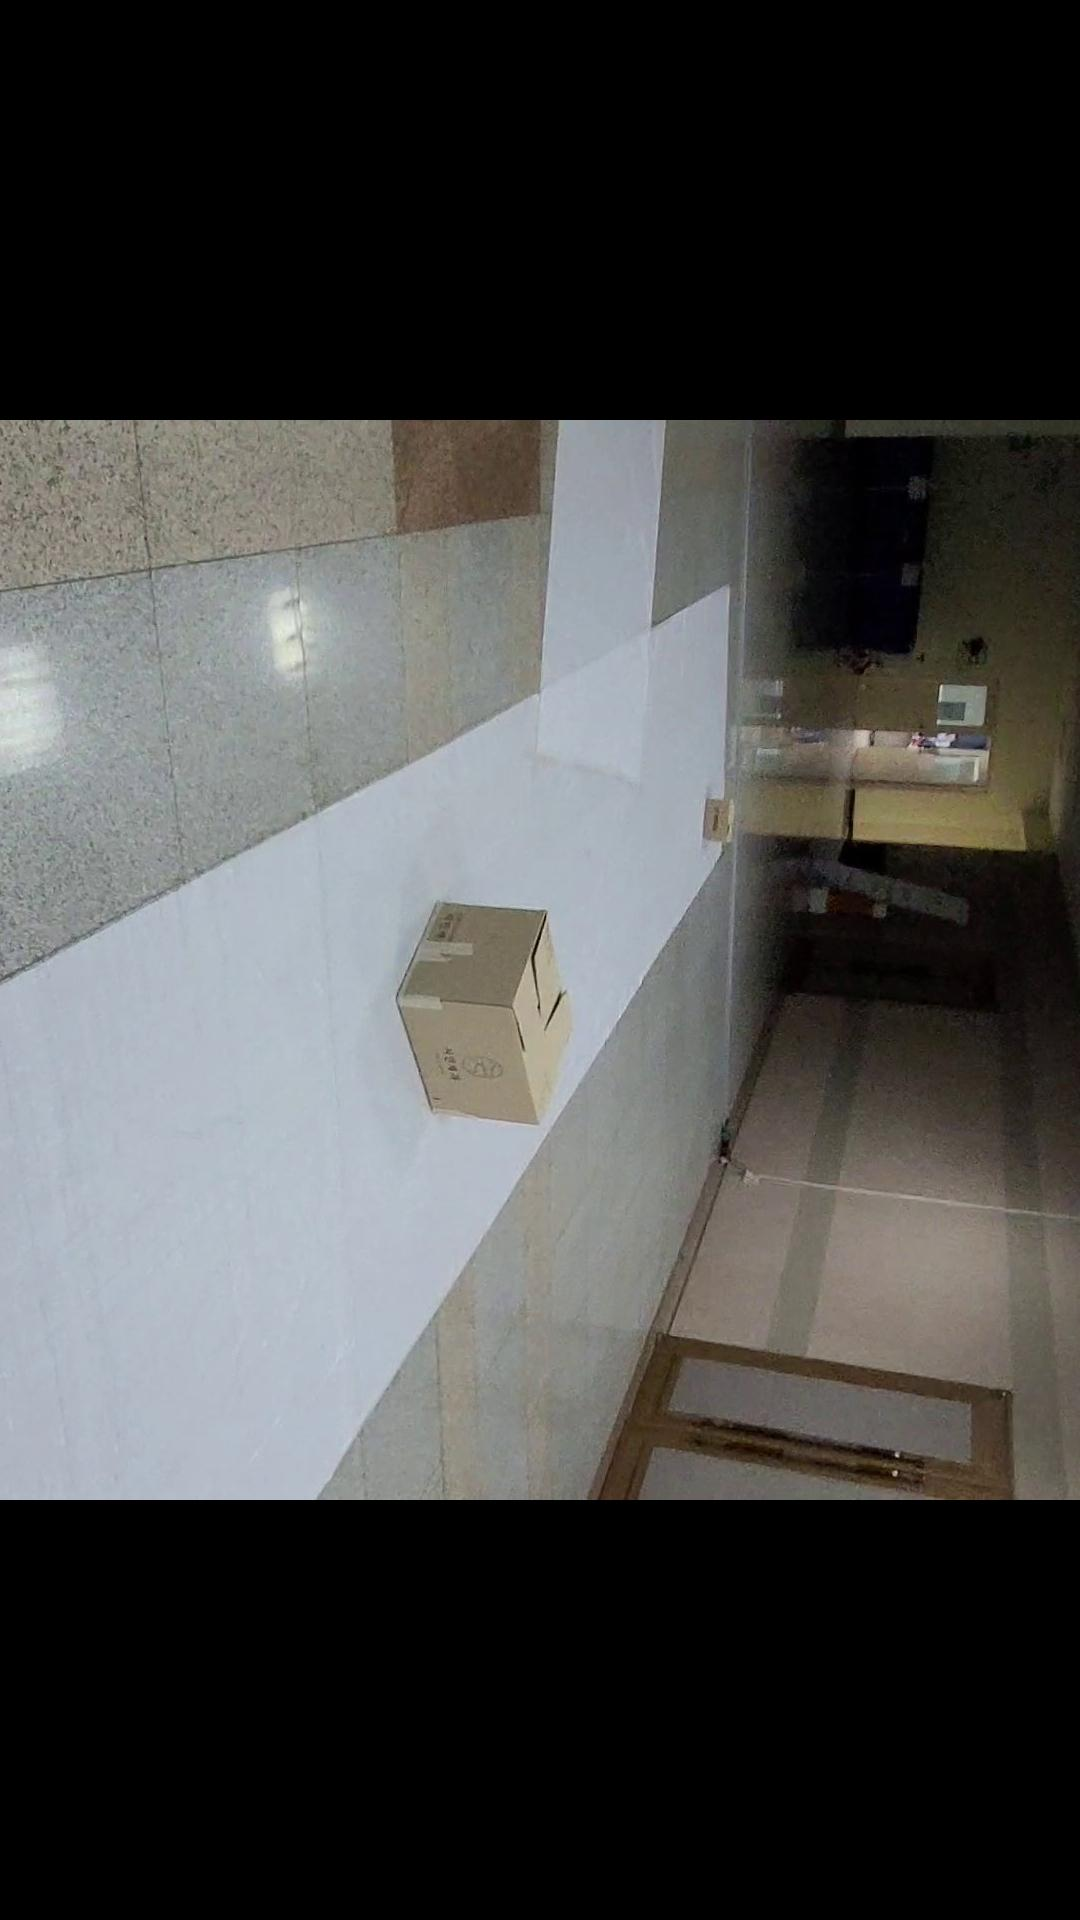Box: (367, 895, 592, 1155), (678, 756, 790, 873)
